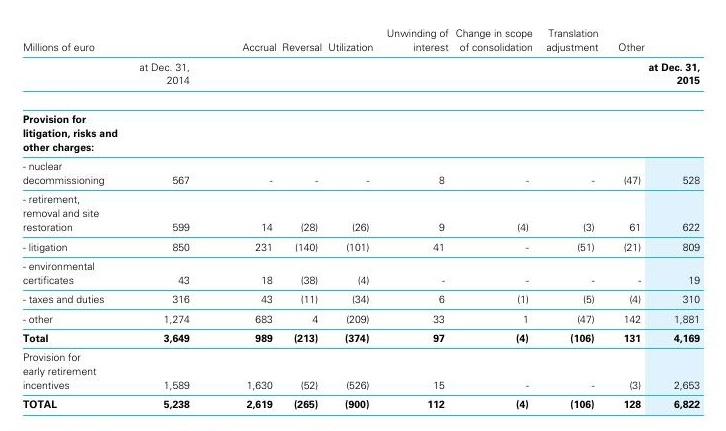table: (0, 0, 726, 431)
